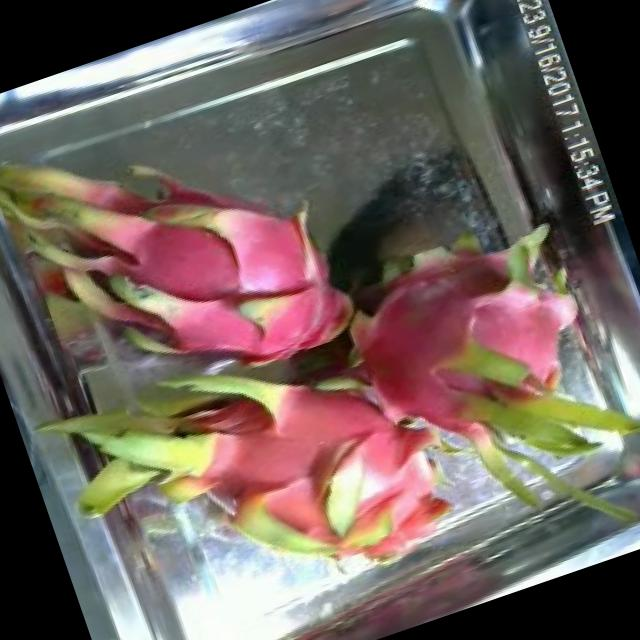Fruit: (94, 195, 267, 344), (202, 258, 378, 380)
